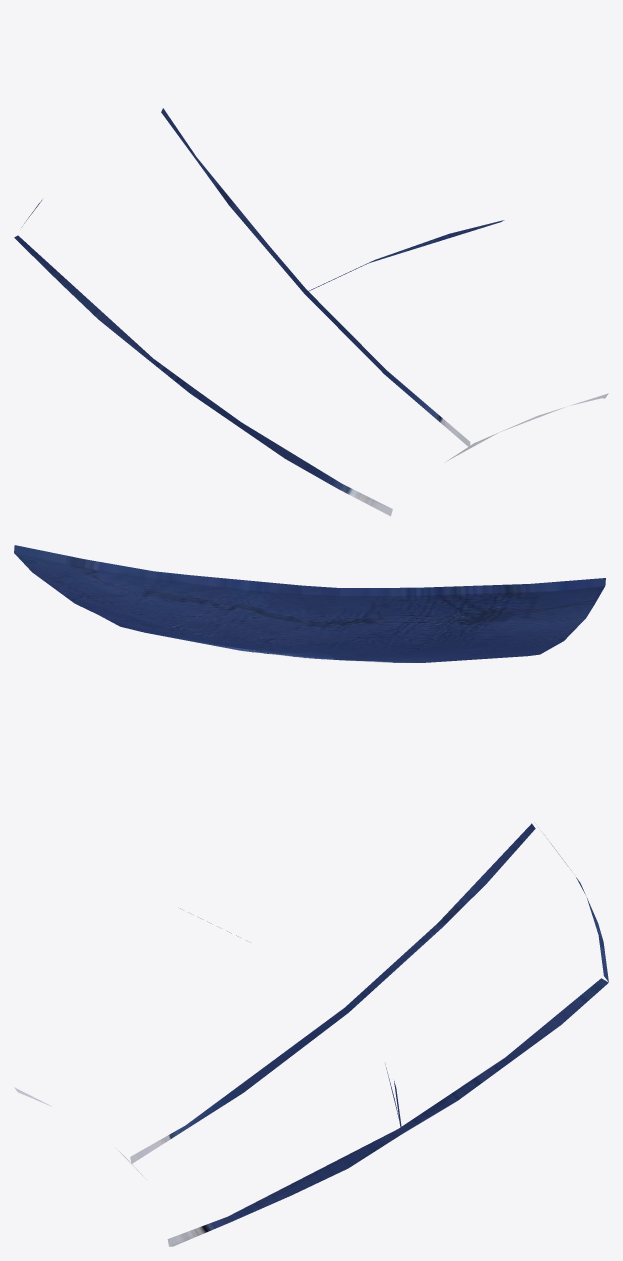
The picture shows the model from 3 angles, top to bottom: view 1: azimuth 30°, elevation 25°; view 2: azimuth 150°, elevation 25°; view 3: azimuth 270°, elevation 25°; orthographic projection. The views are drawn at different scales.
Size of the model in its own units: 3223575 by 1436878 by 2826902.
1 material, 1 textured.
